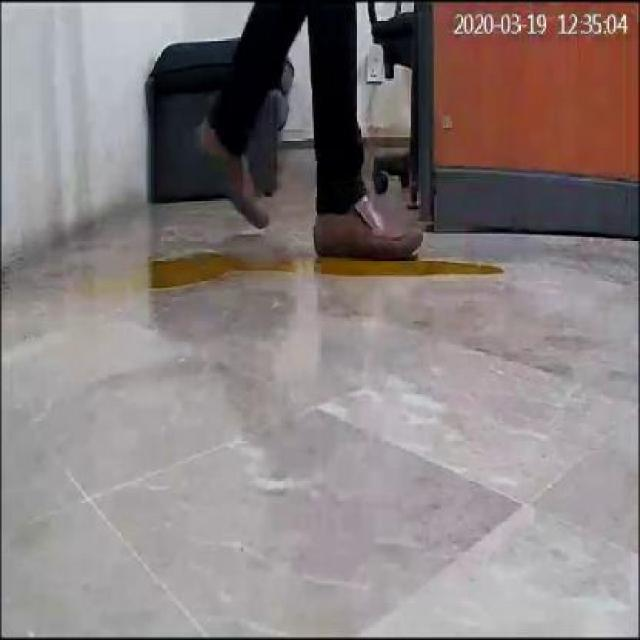spill: (125, 248, 513, 294)
